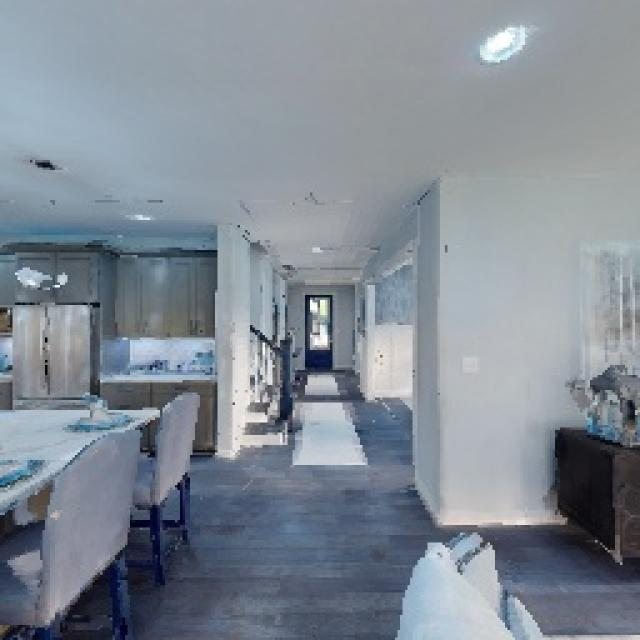chair: (0, 412, 145, 640), (120, 370, 230, 586)
door-frame: (341, 247, 440, 491)
stairs: (243, 318, 304, 454)
